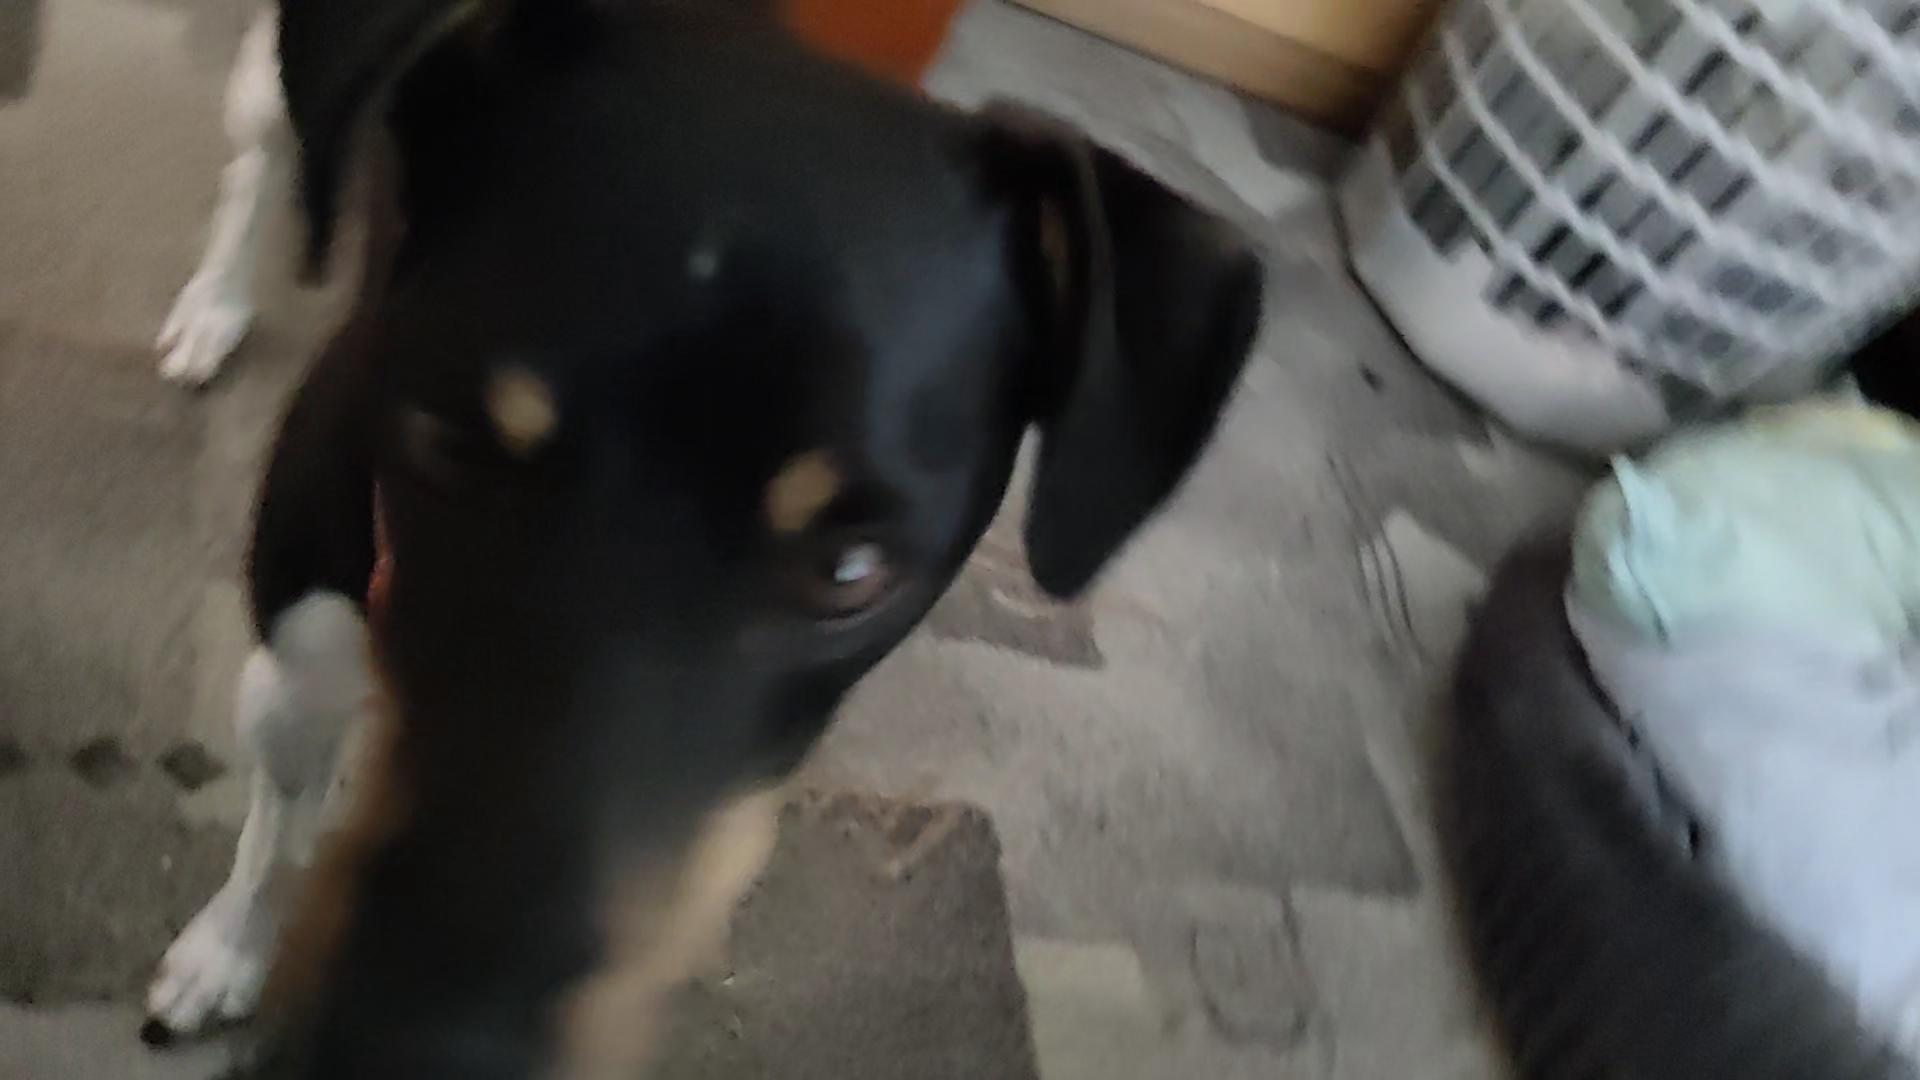Dog: (123, 0, 1290, 1080)
